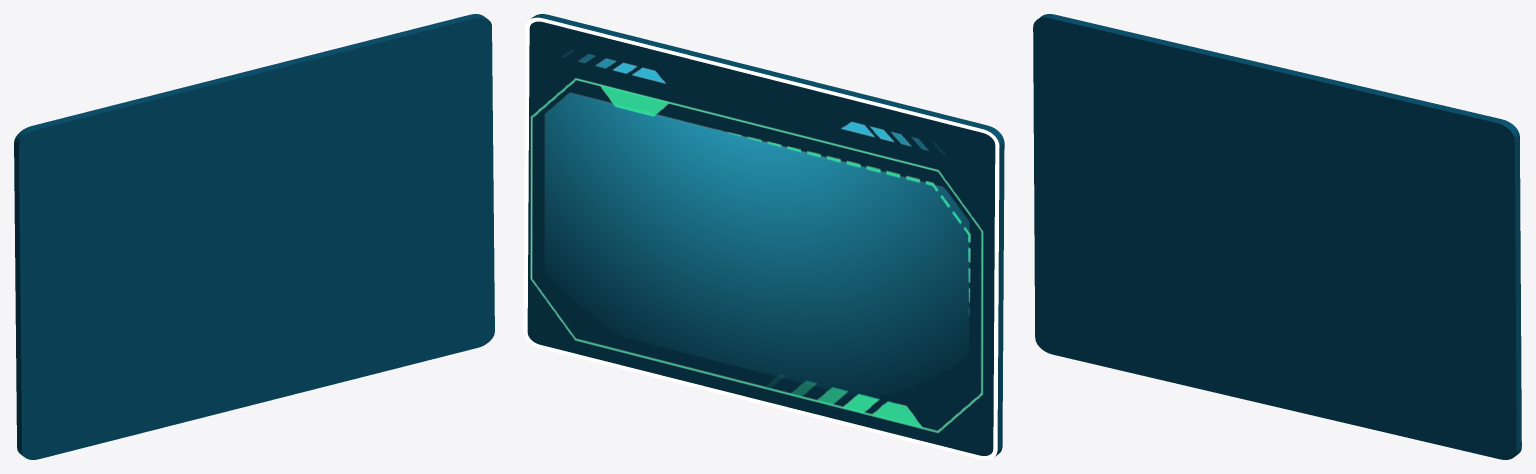
The model's file is board.glb.
The picture shows the model from 3 angles, left to right: view 1: azimuth 30°, elevation 25°; view 2: azimuth 150°, elevation 25°; view 3: azimuth 330°, elevation 25°; orthographic projection.
Visible parts, largest first — view 1: polySurface9160688; view 2: polySurface9160688, polySurface9160675.003; view 3: polySurface9160688.
Boxes of the visible parts, x1,y1,x2,y2 form: polySurface9160688: (14,14,494,459); polySurface9160688: (523,14,1004,459); polySurface9160675.003: (530,54,983,432); polySurface9160688: (1033,14,1521,459).
Size of the model in its own units: 2.08 by 1.4 by 0.0726.
3 materials, 2 textured.
